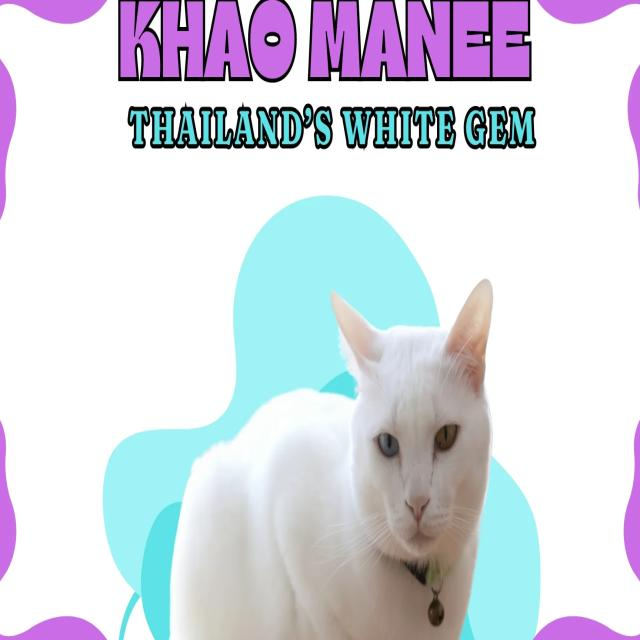Khao Manee: (165, 272, 499, 640)
